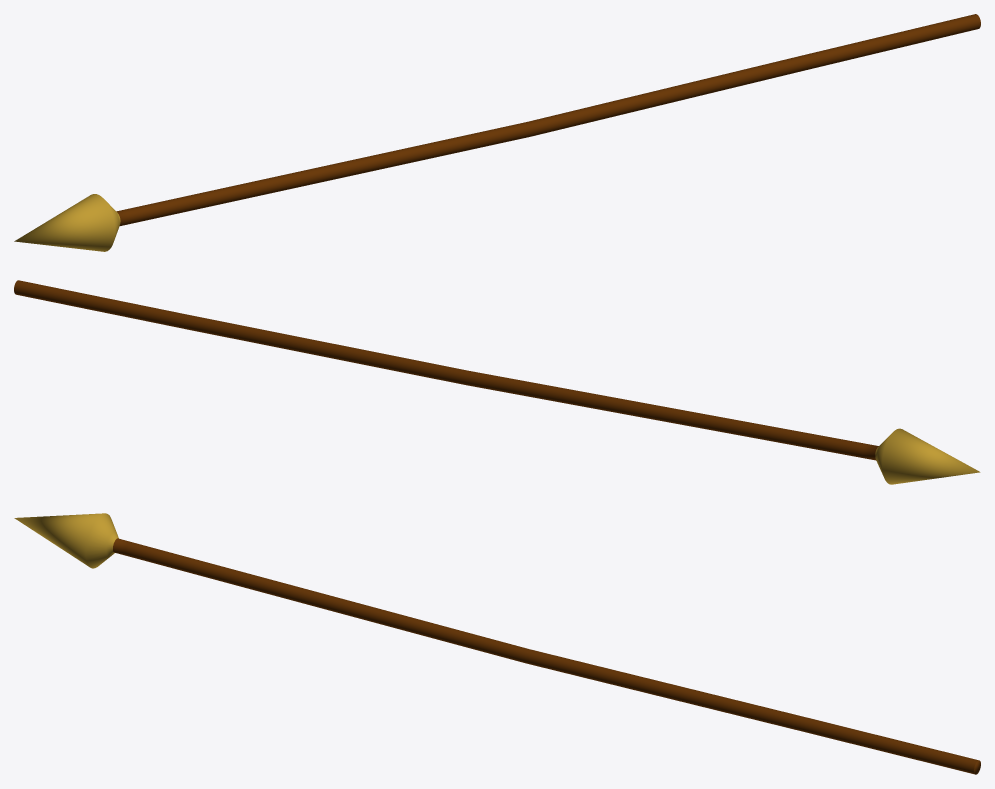
File: musaarrow.fbx
3 views of the same model, one above another, from view 1: azimuth 30°, elevation 25°; view 2: azimuth 150°, elevation 25°; view 3: azimuth 330°, elevation 25° (orthographic). The views are drawn at different scales.
Visible parts, largest first — view 1: arrow; view 2: arrow; view 3: arrow.
Boxes of the visible parts, box(x1,y1,x2,y2) form: arrow: box(14, 14, 980, 251); arrow: box(14, 280, 980, 484); arrow: box(14, 513, 980, 774).
Bounding box in the file's own units: 318 × 19.65 × 20.23.
